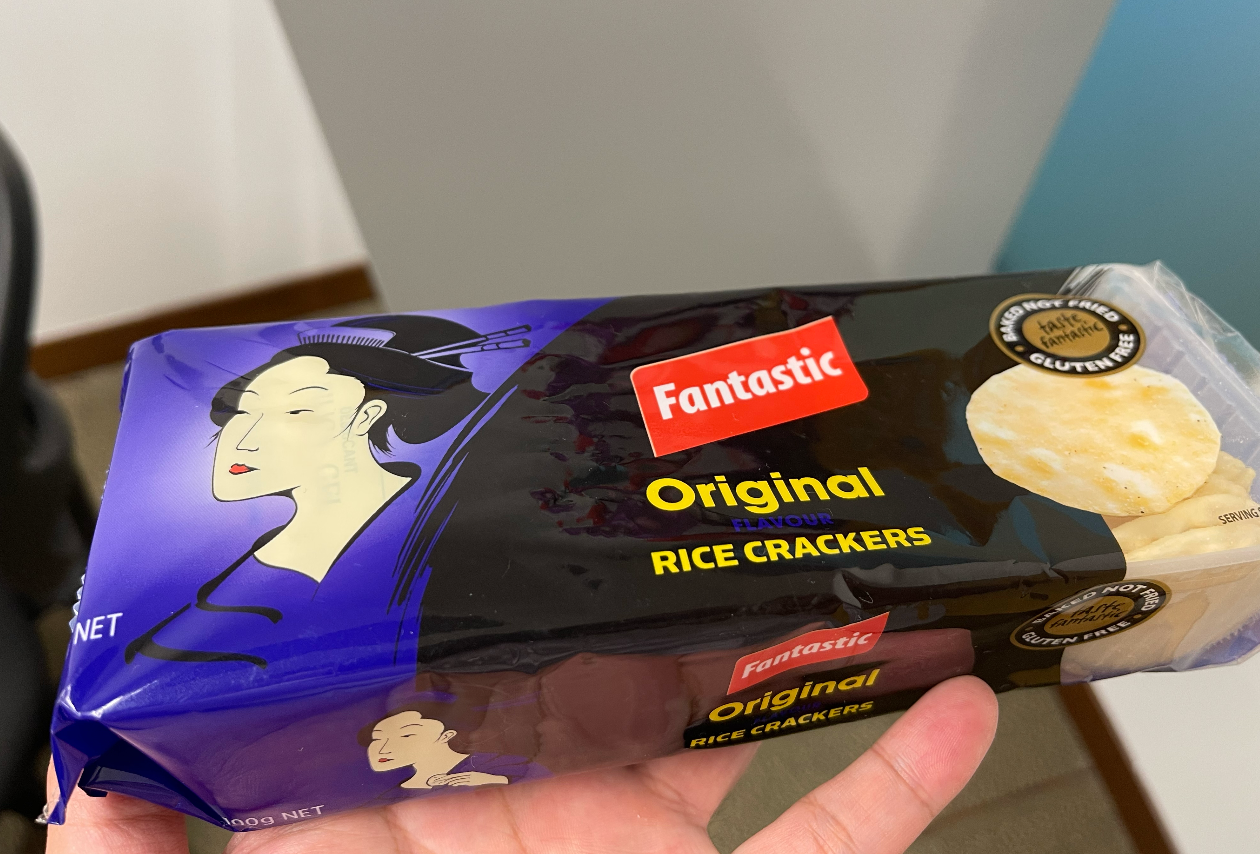crackers_100g-199g: (142, 328, 1198, 685)
